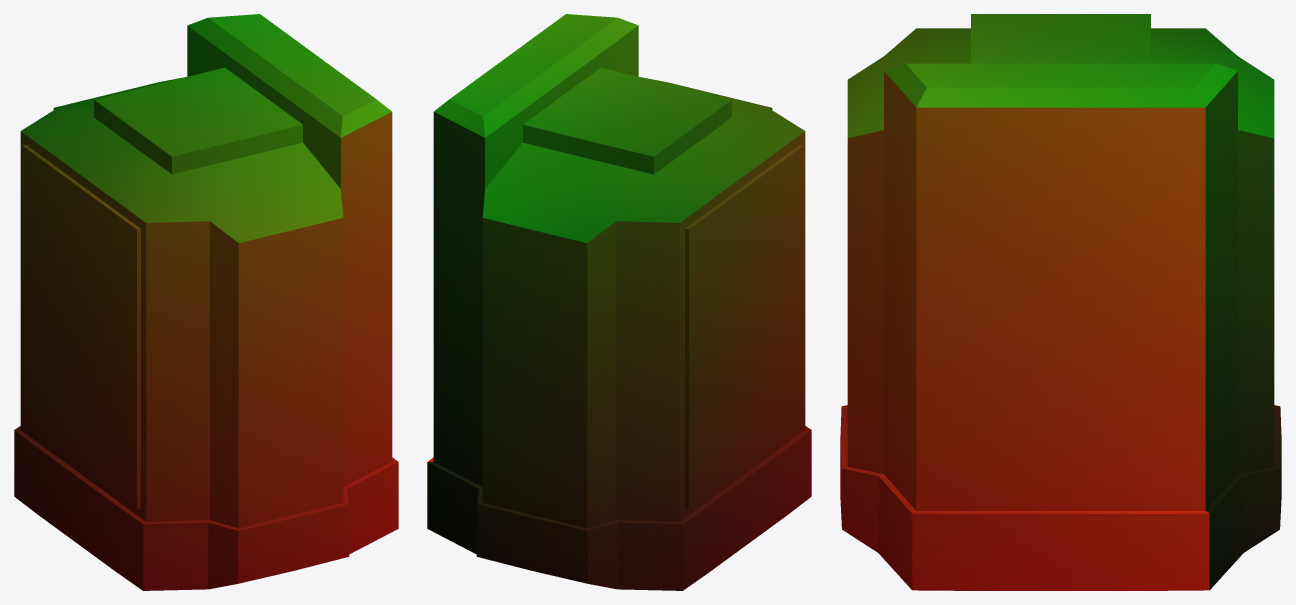
The model's file is maquinaDeTicketParking.fbx.
3 views of the same model, side by side, from view 1: azimuth 30°, elevation 25°; view 2: azimuth 150°, elevation 25°; view 3: azimuth 270°, elevation 25° (orthographic). The views are drawn at different scales.
Visible parts, largest first — view 1: Box004; view 2: Box004; view 3: Box004.
Boxes of the visible parts, <box> form: Box004: <box>14,14,398,590</box>; Box004: <box>427,14,811,590</box>; Box004: <box>840,14,1281,590</box>.
Size of the model in its own units: 147 by 235 by 190.
